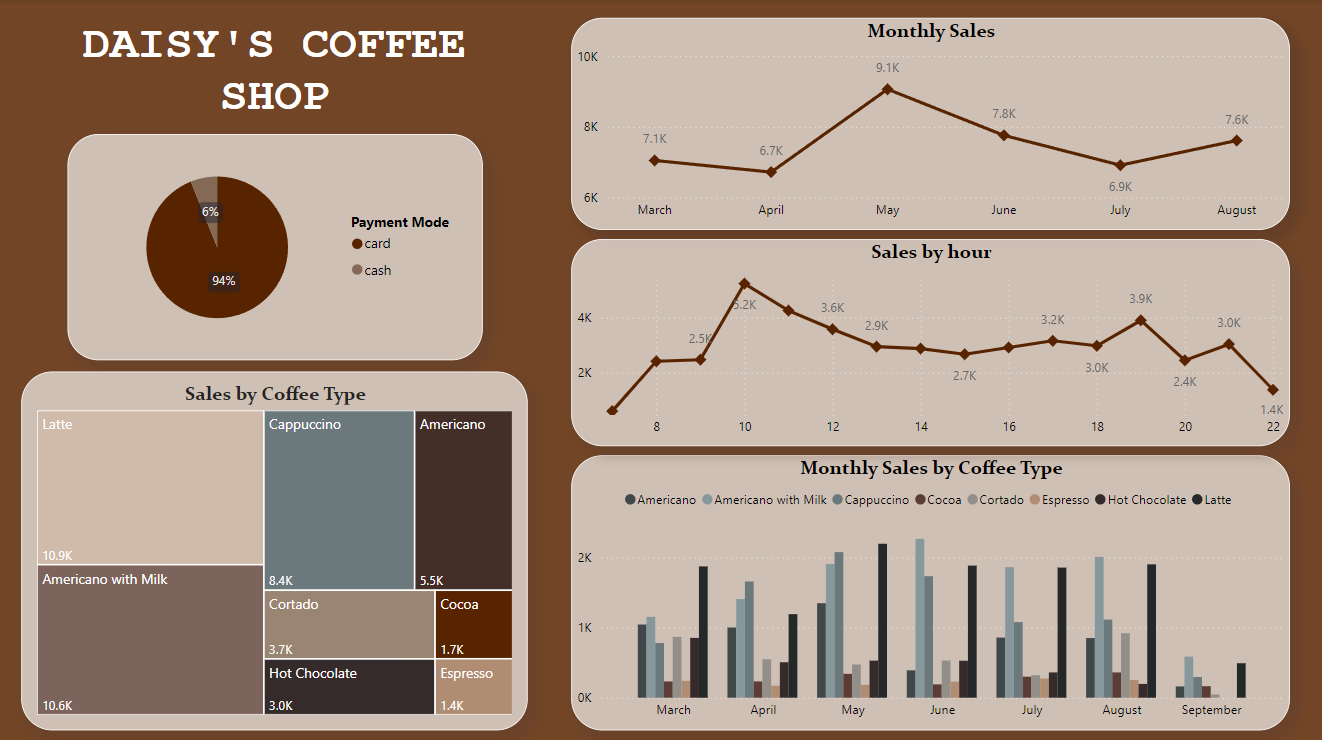

What the dashboard file says about the page in this screenshot:
{"tool":"powerbi","page":{"name":"Page 1","canvas":[1280,720],"ordinal":0},"visuals":[{"type":"lineChart","title":"Monthly Sales","fields":{"Category":["index.date.Variation.Date Hierarchy.Month","index.date.Variation.Date Hierarchy.Day"],"Y":["index.money"]},"box":[551.3,18,693.7,205],"z":0},{"type":"pieChart","fields":{"Category":["index.cash_type"],"Y":["index.card"]},"box":[65.1,130.3,400.5,218.4],"z":1},{"type":"treemap","title":"Sales by Coffee Type","fields":{"Group":["index.coffee_name"],"Values":["index.money"]},"box":[20.8,359.5,489.1,346.1],"z":2},{"type":"clusteredColumnChart","title":"Monthly Sales by Coffee Type","fields":{"Category":["index.date.Variation.Date Hierarchy.Month"],"Y":["index.money"],"Series":["index.coffee_name"]},"box":[551.3,440.4,693.7,265.4],"z":3},{"type":"lineChart","title":"Sales by hour","fields":{"Category":["index.hour"],"Y":["index.money"]},"box":[551.3,231.6,693.7,200.3],"z":4},{"type":"textbox","title":"DAISY''S COFFEE SHOP","box":[20.5,19.3,488.6,95.3],"z":8}]}

Visuals, with their boxes in screenshot pixels (x1, y1, x2, y2), scaled from the page's 1280x720 canvas onto the 1322x740 screenshot:
"Monthly Sales" lineChart: <box>569,18,1286,229</box>
pieChart - index.cash_type x index.card: <box>67,134,481,358</box>
"Sales by Coffee Type" treemap: <box>21,369,527,725</box>
"Monthly Sales by Coffee Type" clusteredColumnChart: <box>569,453,1286,725</box>
"Sales by hour" lineChart: <box>569,238,1286,444</box>
"DAISY''S COFFEE SHOP" textbox: <box>21,20,526,118</box>
